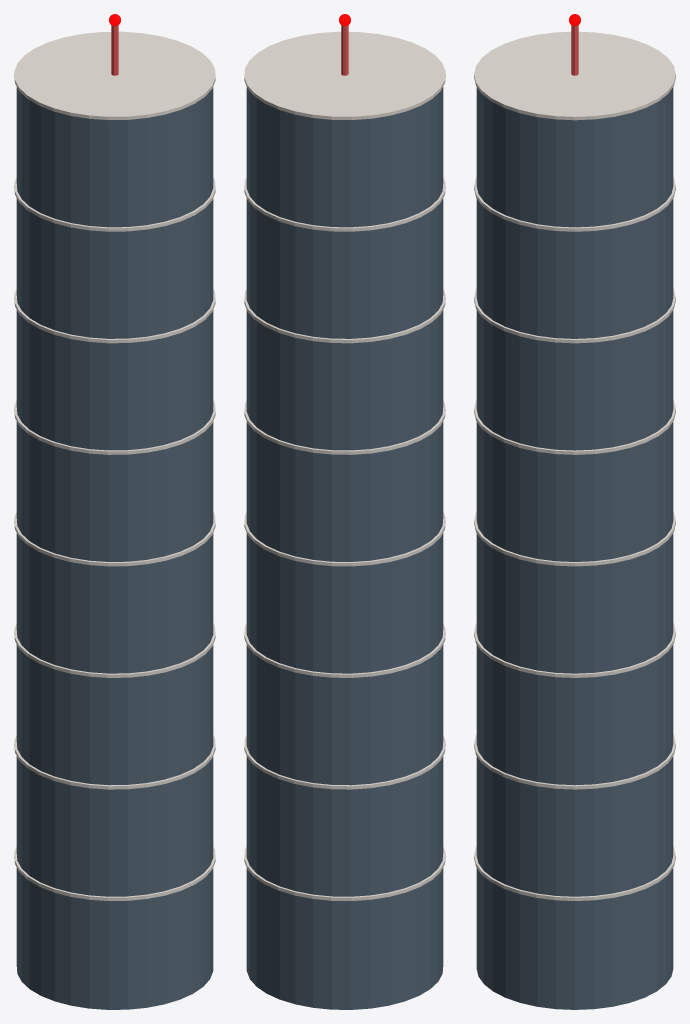
File: landmark_mega_tower.glb
3 renders of one model, left to right at view 1: azimuth 30°, elevation 25°; view 2: azimuth 150°, elevation 25°; view 3: azimuth 270°, elevation 25°, orthographic.
Parts seen in each view (by area): view 1: MegaTower, FloorRing_160, FloorRing_120, FloorRing_80, FloorRing_40, FloorRing_140, FloorRing_100, FloorRing_20, FloorRing_60; view 2: MegaTower, FloorRing_160, FloorRing_120, FloorRing_80, FloorRing_40, FloorRing_140, FloorRing_100, FloorRing_20, FloorRing_60; view 3: MegaTower, FloorRing_160, FloorRing_100, FloorRing_120, FloorRing_80, FloorRing_140, FloorRing_20, FloorRing_60, FloorRing_40.
Boxes of the visible parts, x1,y1,x2,y2 form: MegaTower: (16,87,213,1009); FloorRing_160: (14,31,215,120); FloorRing_120: (14,289,215,343); FloorRing_80: (14,512,215,566); FloorRing_40: (14,735,215,789); FloorRing_140: (14,177,215,231); FloorRing_100: (14,400,215,454); FloorRing_20: (14,847,215,900); FloorRing_60: (14,624,215,677); MegaTower: (246,87,443,1009); FloorRing_160: (244,31,445,120); FloorRing_120: (244,289,445,343); FloorRing_80: (244,512,445,566); FloorRing_40: (244,735,445,789); FloorRing_140: (244,177,445,231); FloorRing_100: (244,400,445,454); FloorRing_20: (244,847,445,900); FloorRing_60: (244,624,445,677); MegaTower: (476,87,673,1009); FloorRing_160: (474,31,675,120); FloorRing_100: (474,400,675,454); FloorRing_120: (474,288,675,343); FloorRing_80: (474,511,675,566); FloorRing_140: (474,177,675,231); FloorRing_20: (474,846,675,900); FloorRing_60: (474,623,675,677); FloorRing_40: (474,735,675,789).
Bounding box in the file's own units: 164 × 855 × 164.
